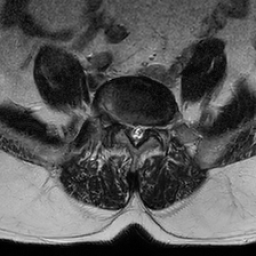CCS_normal: (132, 116, 139, 153)
LFS_severe_stenosis: (146, 115, 154, 138)
LLS_stenosis: (139, 116, 146, 146)
RFS_stenosis: (118, 112, 125, 134)
RLS_severe_stenosis: (125, 114, 132, 142)
